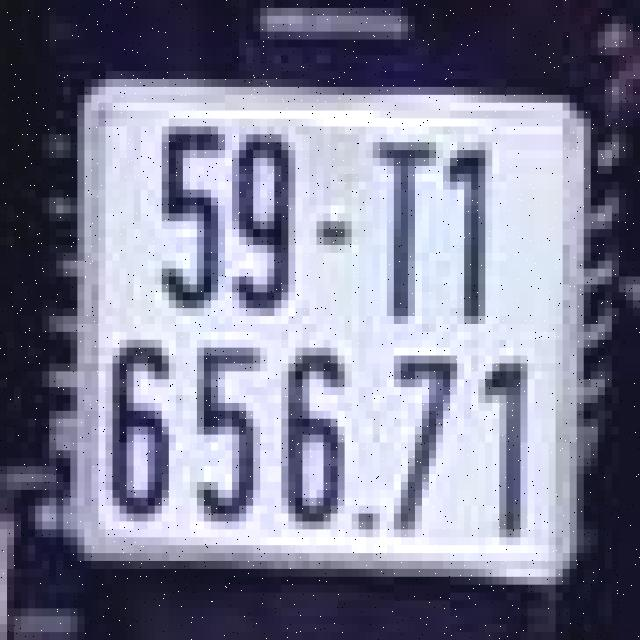1: (475, 336, 538, 557), (450, 138, 506, 328)
5: (176, 336, 267, 533), (148, 118, 232, 324)
6: (91, 324, 169, 529), (281, 336, 345, 533)
7: (380, 344, 464, 541)
9: (232, 126, 310, 316)
T: (359, 130, 436, 328)
